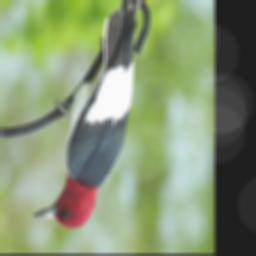Woodpecker: (30, 0, 145, 231)
